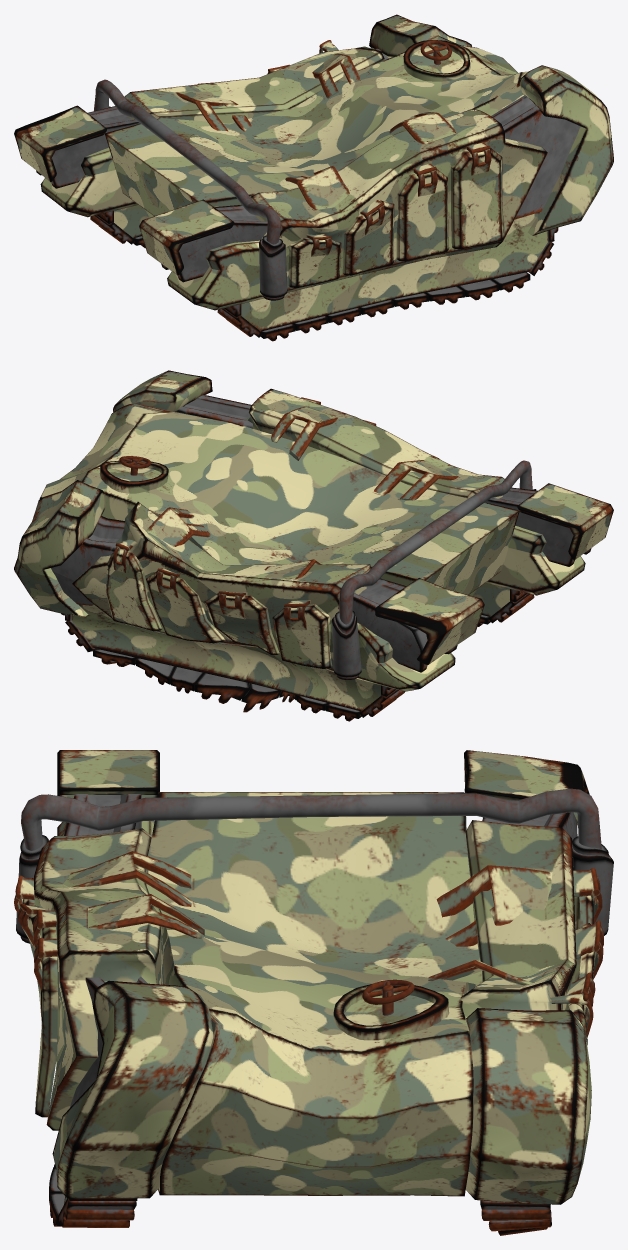
Rendered from SM_Tank_Body_Trap_01_002.fbx.
The picture shows the model from 3 angles, top to bottom: view 1: azimuth 30°, elevation 25°; view 2: azimuth 150°, elevation 25°; view 3: azimuth 270°, elevation 25°; orthographic projection. The views are drawn at different scales.
Visible parts, largest first — view 1: SM_Tank_Body_Trap_01.002; view 2: SM_Tank_Body_Trap_01.002; view 3: SM_Tank_Body_Trap_01.002.
Part boxes in pixels (x1,y1,x2,y2): SM_Tank_Body_Trap_01.002: (14, 14, 613, 341); SM_Tank_Body_Trap_01.002: (14, 370, 613, 721); SM_Tank_Body_Trap_01.002: (14, 750, 613, 1235).
Bounding box in the file's own units: 877 × 349 × 628.
